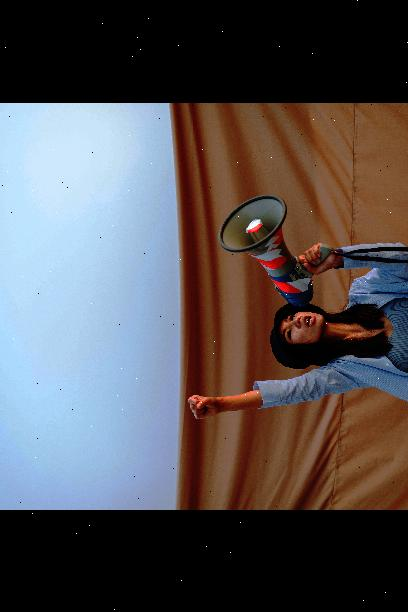Rock: (178, 388, 222, 422)
